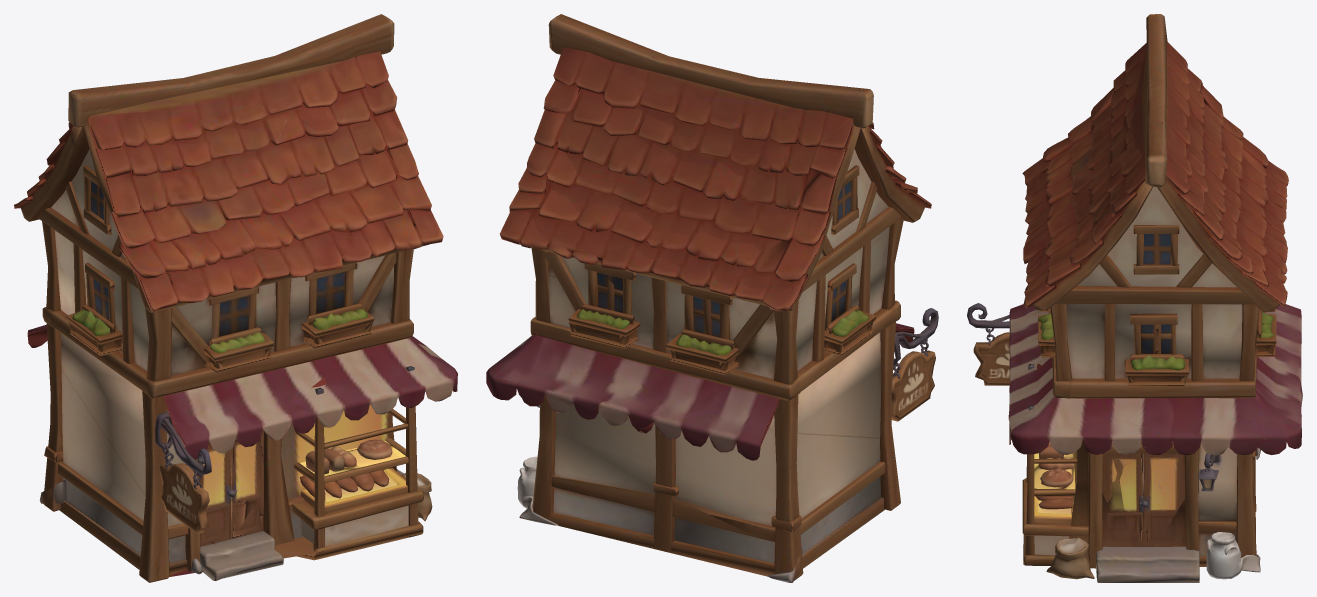
Rendered from bakery.glb.
3 views of the same model, side by side, from view 1: azimuth 30°, elevation 25°; view 2: azimuth 150°, elevation 25°; view 3: azimuth 270°, elevation 25° (orthographic). The views are drawn at different scales.
Parts seen in each view (by area): view 1: geometry_0; view 2: geometry_0; view 3: geometry_0.
Part boxes in pixels (x1,y1,x2,y2): geometry_0: (14,14,457,582); geometry_0: (486,14,938,582); geometry_0: (967,14,1302,582).
Bounding box in the file's own units: 0.6968 × 0.9526 × 0.6807.
1 material, 1 textured.
